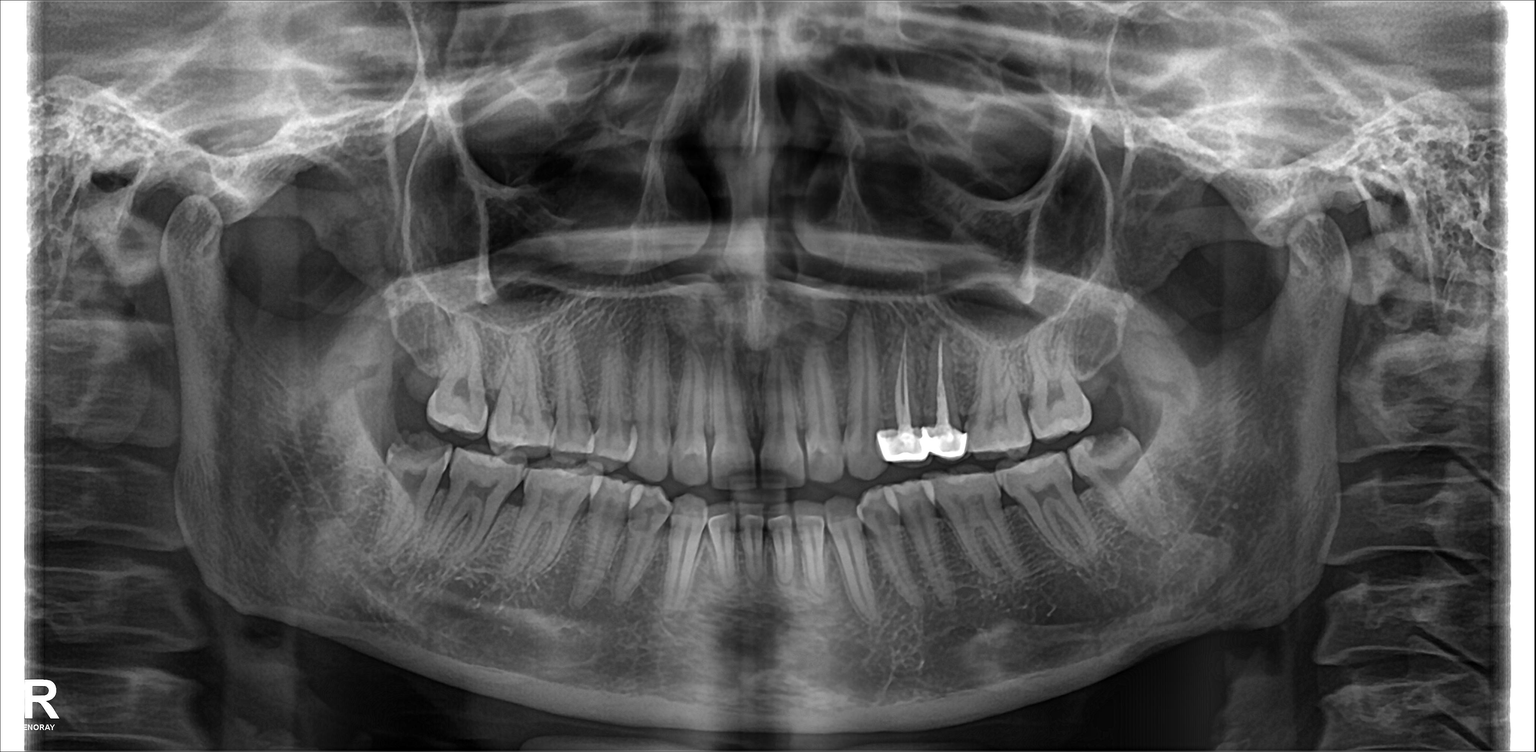Dental Caries: (385, 436, 450, 468)
Endodontically Treated Tooth: (879, 342, 928, 459), (929, 344, 970, 444)
Missing Tooth: (393, 315, 435, 425), (1088, 316, 1132, 417)
